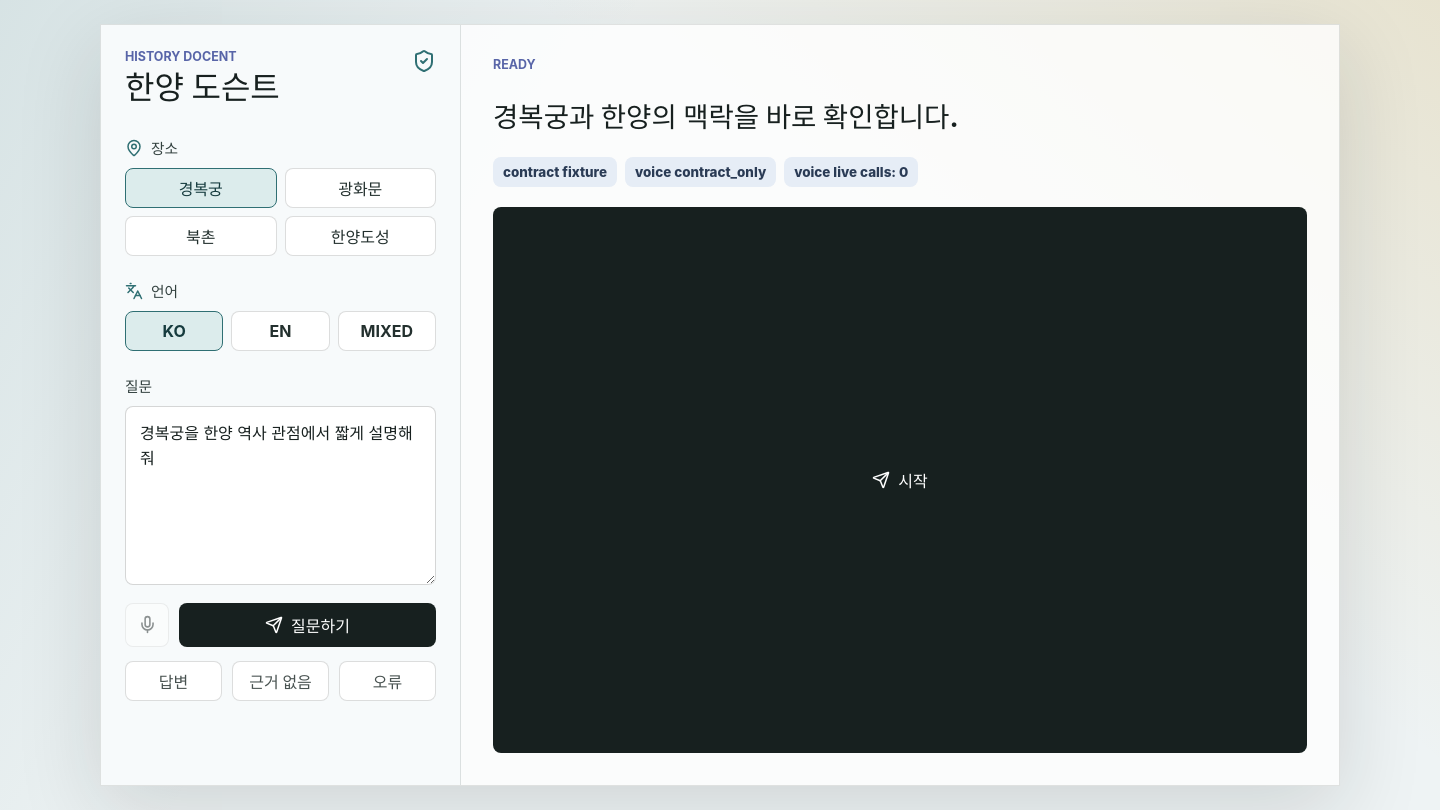
History Docent voice UI skeleton › keeps detailed answer behind an explicit disclosure
This screenshot has width=1440, height=810.
Click the button "시작". click: [542, 480]
box: [493,207,1307,753]
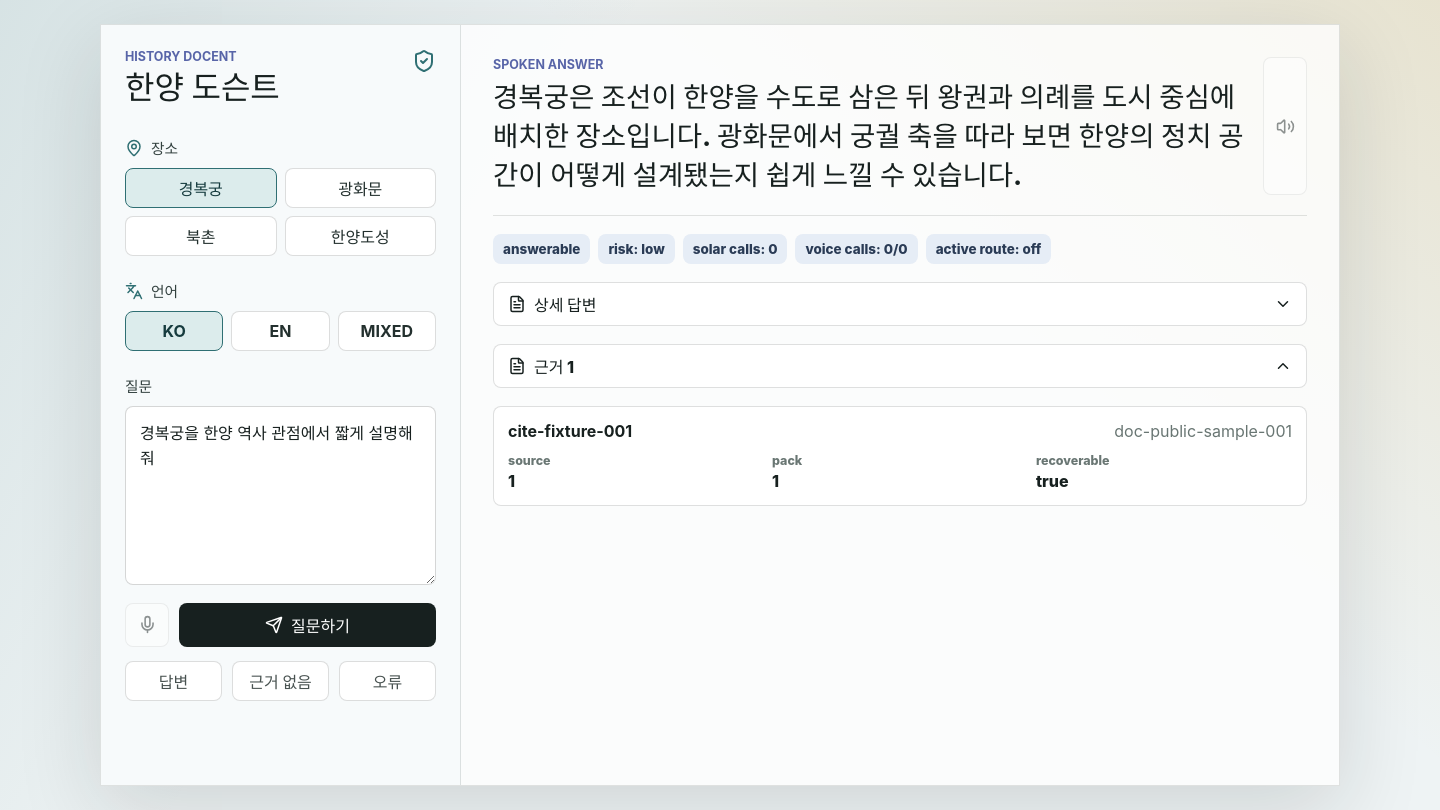
Expected: the text "경복궁은 조선 왕조가 한양을 수도로 삼은 뒤" is not shown
Now the text "Spoken answer" is shown, box [493,57,604,72]
Click the button "상세 답변". click: [565, 305]
box: [493,282,1307,326]
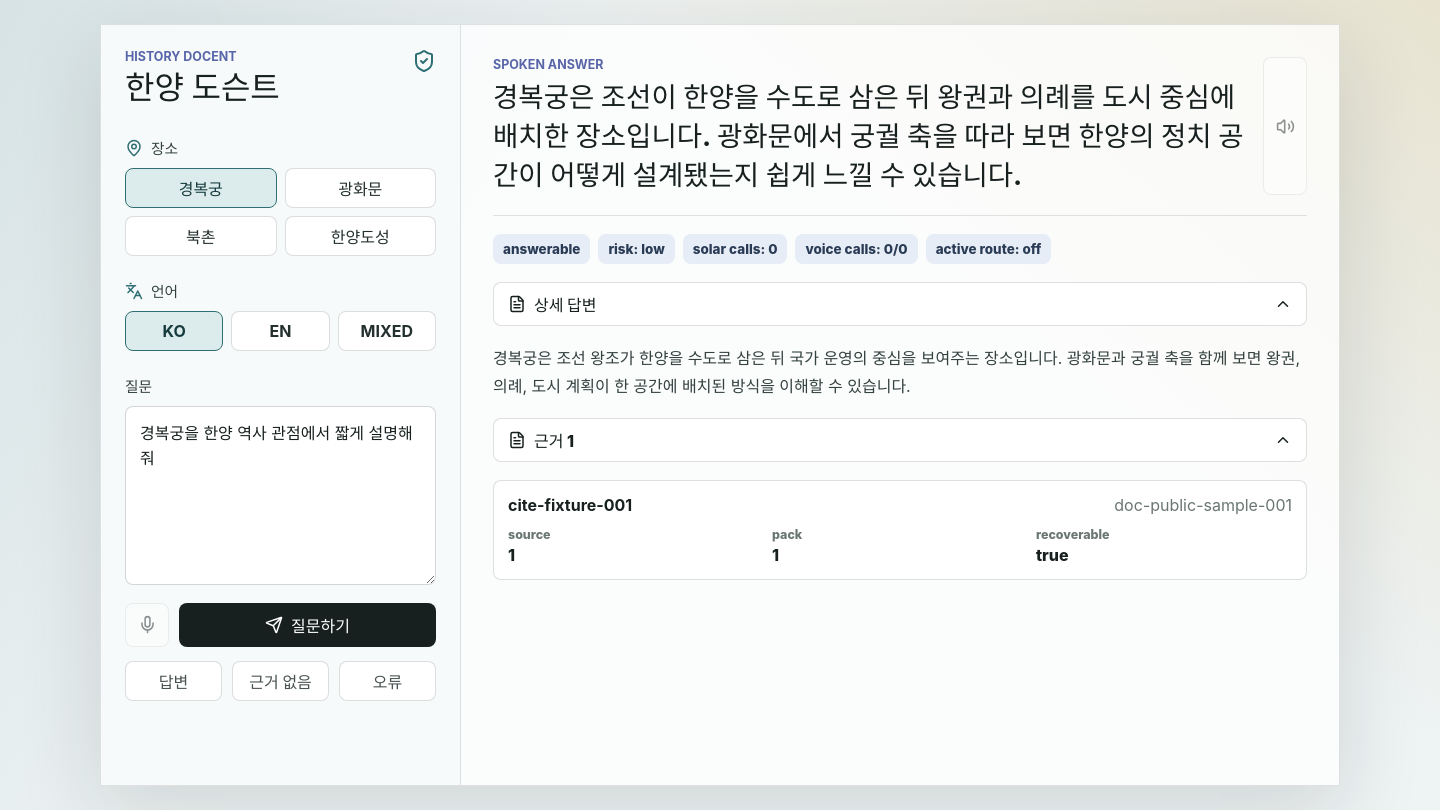
Now the text "경복궁은 조선 왕조가 한양을 수도로 삼은 뒤" is shown, box [493,348,1300,396]
